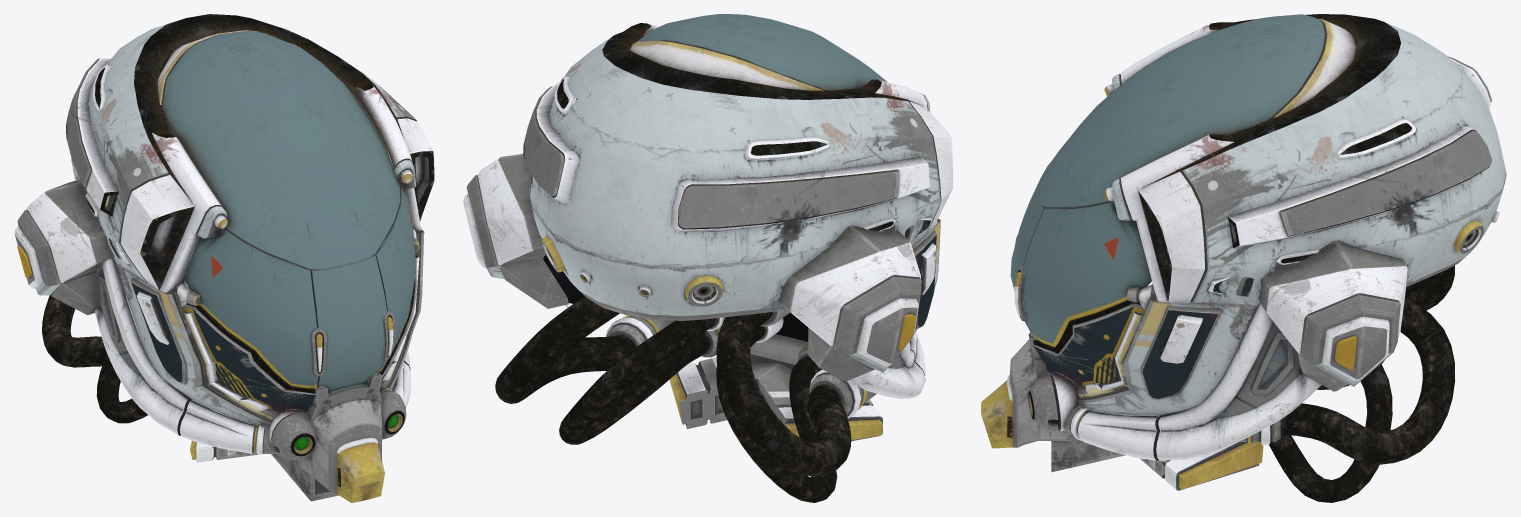
File: test_opt.glb
The picture shows the model from 3 angles, left to right: view 1: azimuth 30°, elevation 25°; view 2: azimuth 150°, elevation 25°; view 3: azimuth 270°, elevation 25°; orthographic projection. The views are drawn at different scales.
Visible parts, largest first — view 1: node_damagedHelmet_-6514; view 2: node_damagedHelmet_-6514; view 3: node_damagedHelmet_-6514.
Boxes of the visible parts, <box> form: node_damagedHelmet_-6514: <box>14,14,434,502</box>; node_damagedHelmet_-6514: <box>463,14,952,502</box>; node_damagedHelmet_-6514: <box>981,14,1506,502</box>.
Bounding box in the file's own units: 1.89 × 1.8 × 2.
1 material, 1 textured.
